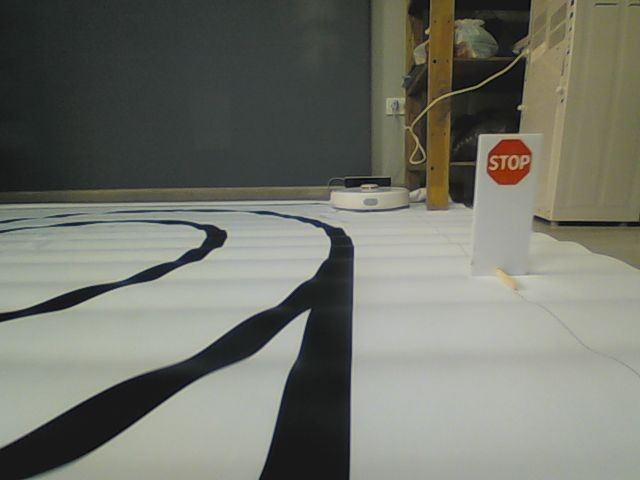Stop: (484, 137, 533, 184)
